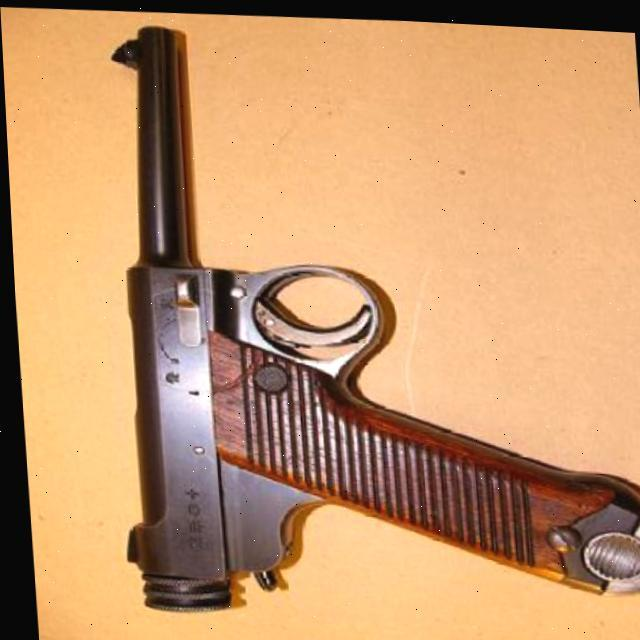gun: (79, 9, 640, 630)
